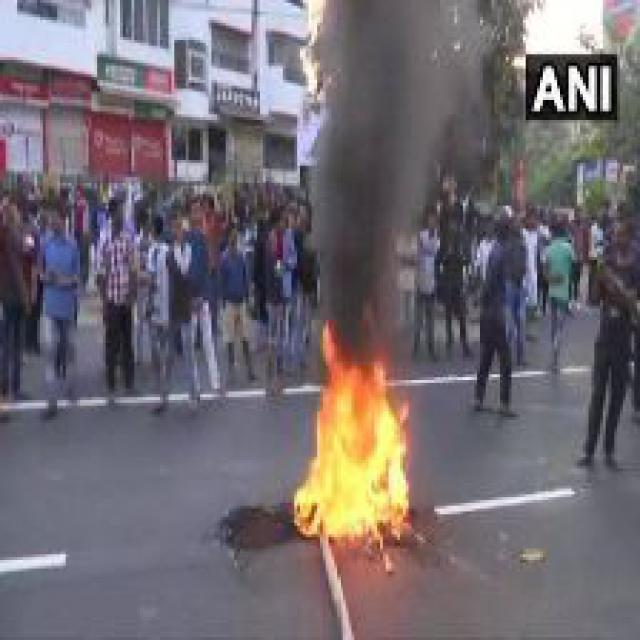fire: (280, 308, 451, 563)
